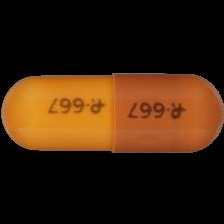68151-1030: (0, 0, 224, 224)
